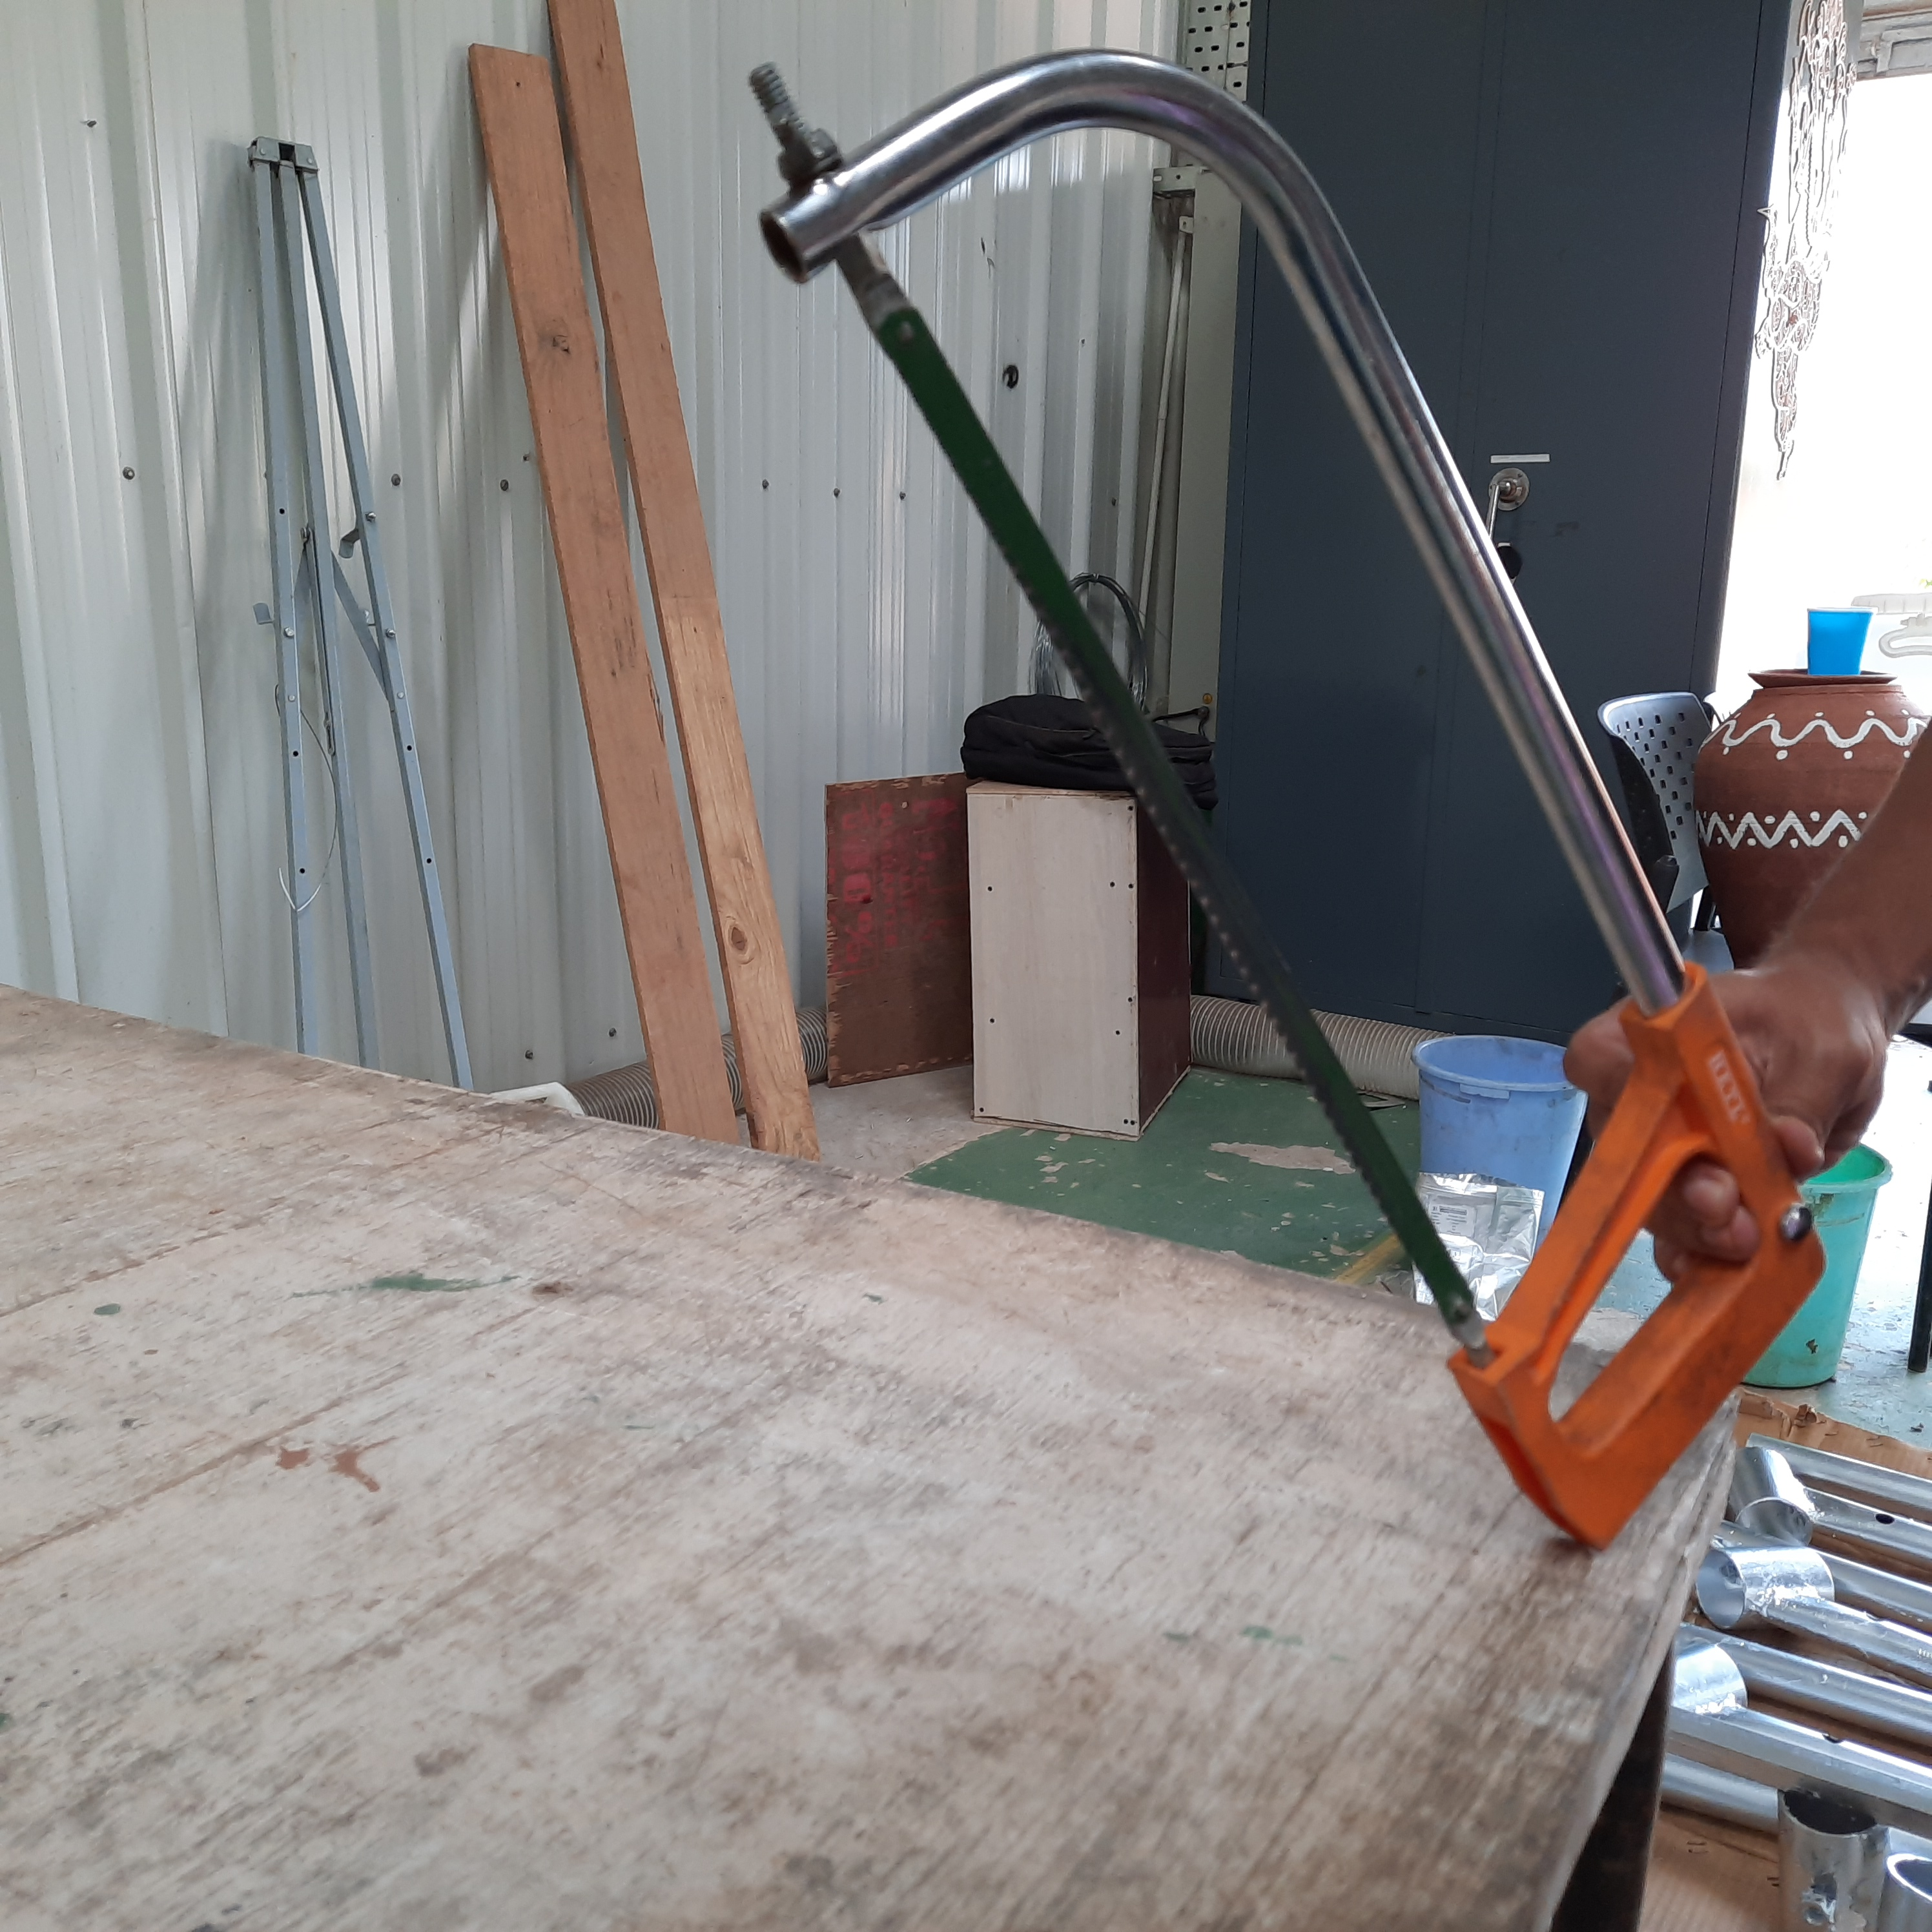Hexaframe: (717, 35, 1859, 1568)
